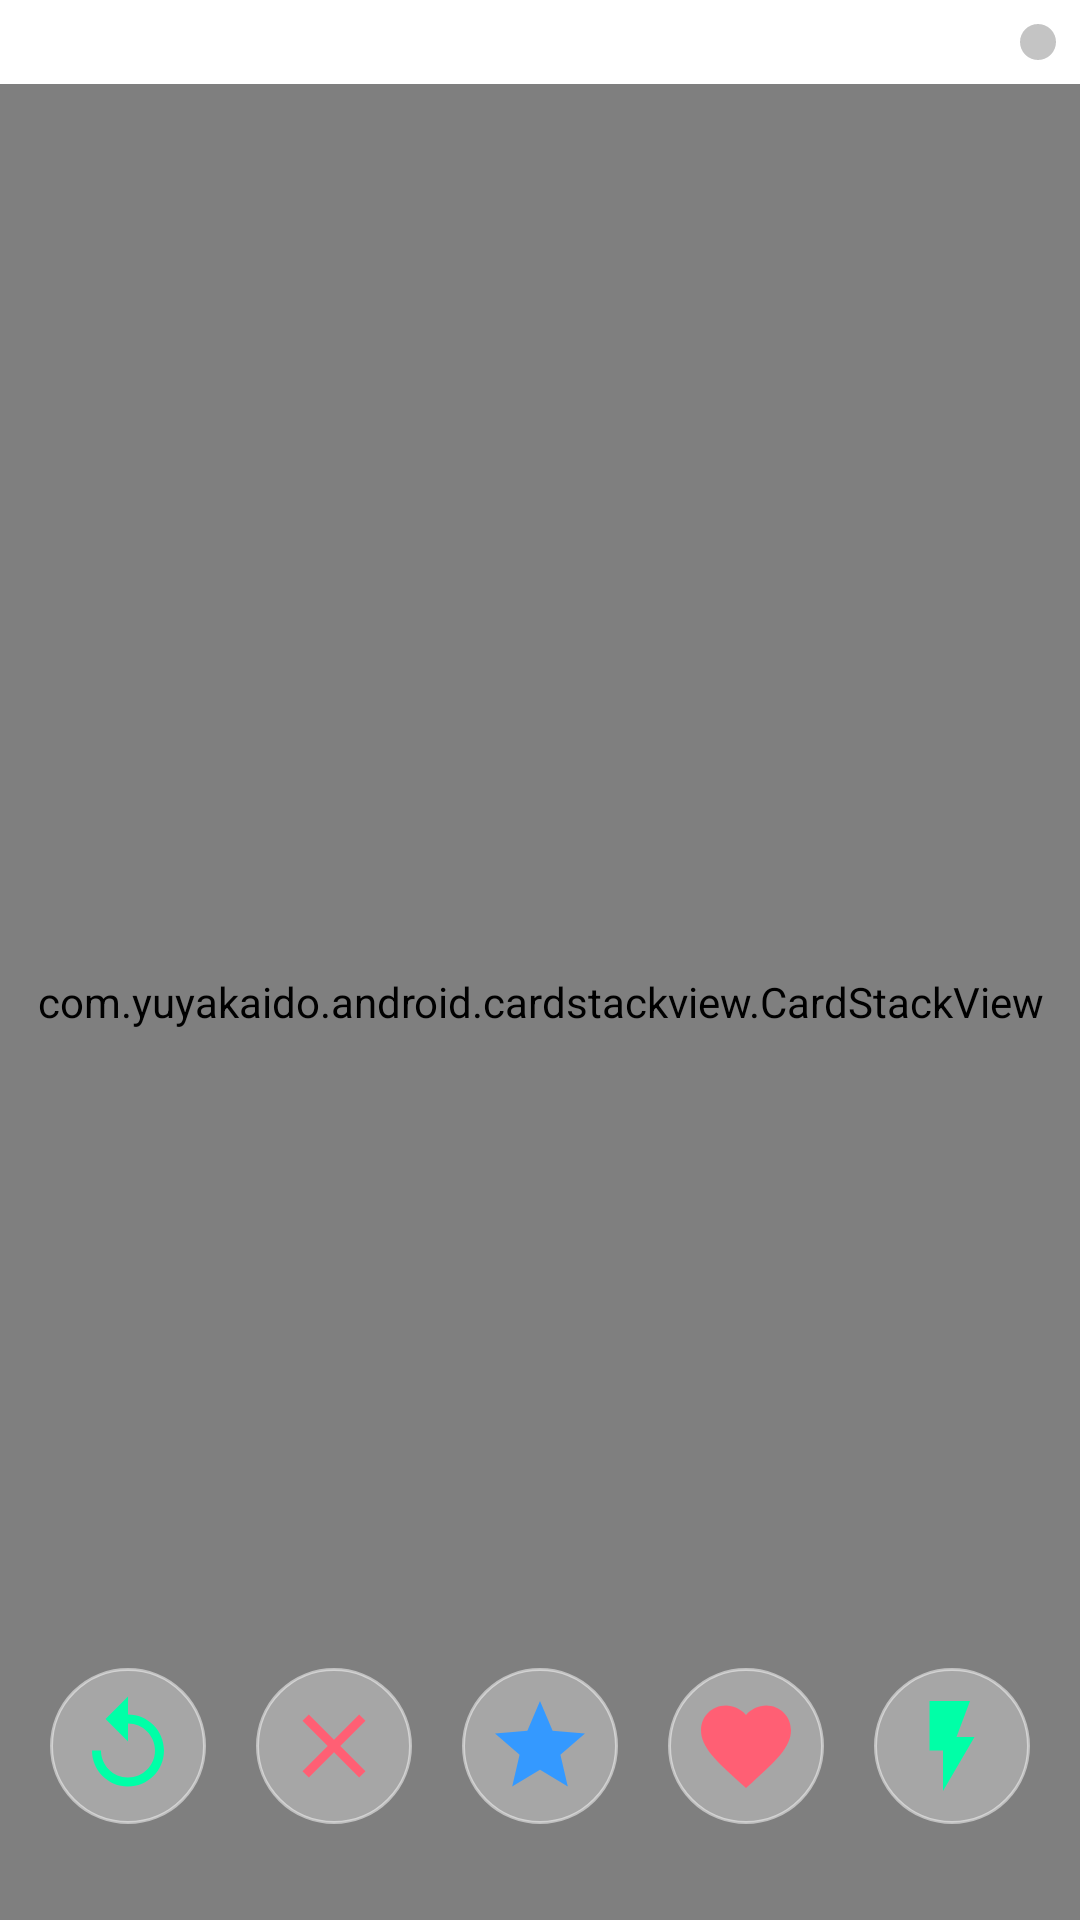

Icon click points for this 1080px x 1920px phone screenshot, format (x,y):
Image Boost Profile: (952,1746)
Image igrone profile: (334,1746)
Image Like Profile: (746,1746)
Image Replay: (128,1746)
Image Super Like: (540,1746)
